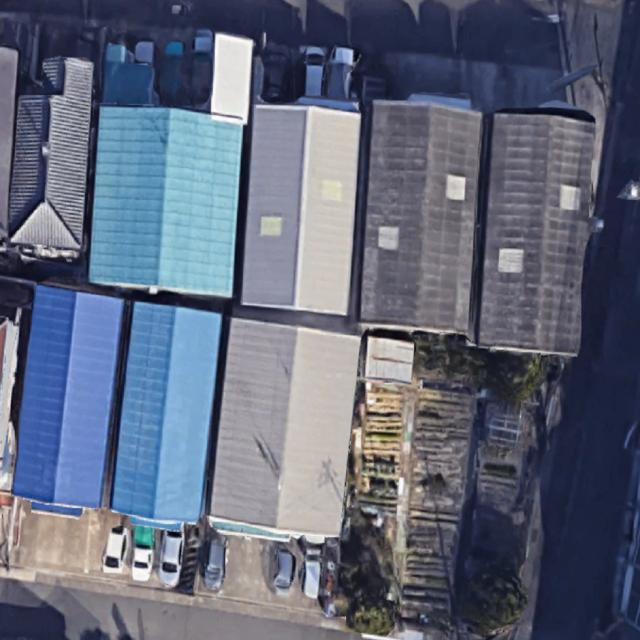Batiment: (210, 318, 360, 536), (89, 106, 242, 296), (479, 112, 595, 352), (361, 100, 482, 330), (241, 105, 361, 314), (14, 285, 124, 508), (111, 301, 221, 521), (9, 58, 94, 249), (211, 33, 254, 123)
